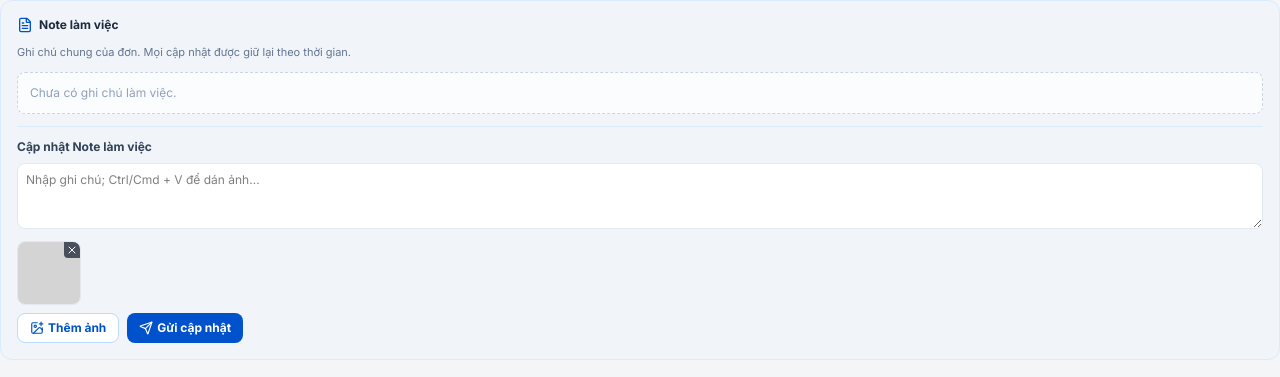
Test case: OrderWorkNotesCard › turns a pasted image into a preview and submits it with the note
Expected: the text "Chưa có ghi chú làm việc." is shown, [17,72,1263,114]
Type "Đây là temp mới" into the text box with placeholder "Nhập ghi chú; Ctrl/Cmd + V để dán ảnh…" at (640, 196), box [17,163,1263,229]
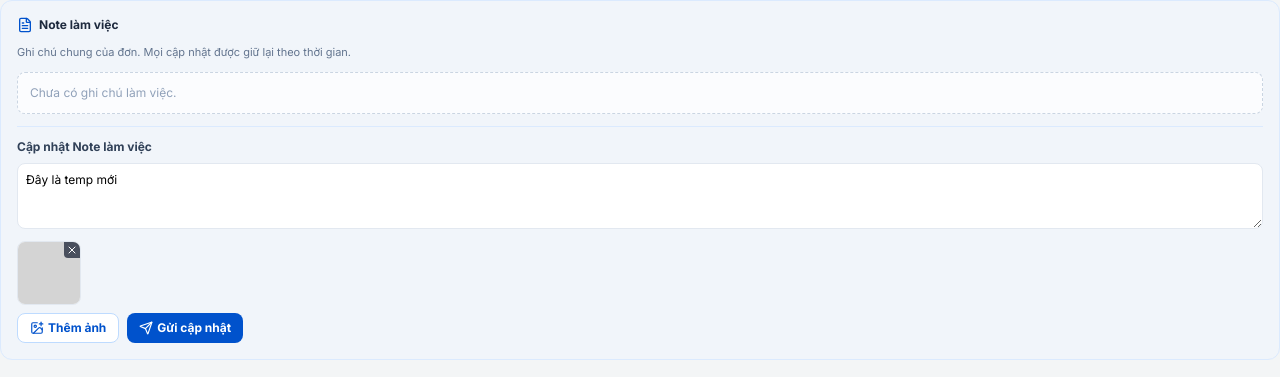
Click the button "Gửi cập nhật" at (185, 328), box [127,313,243,343]
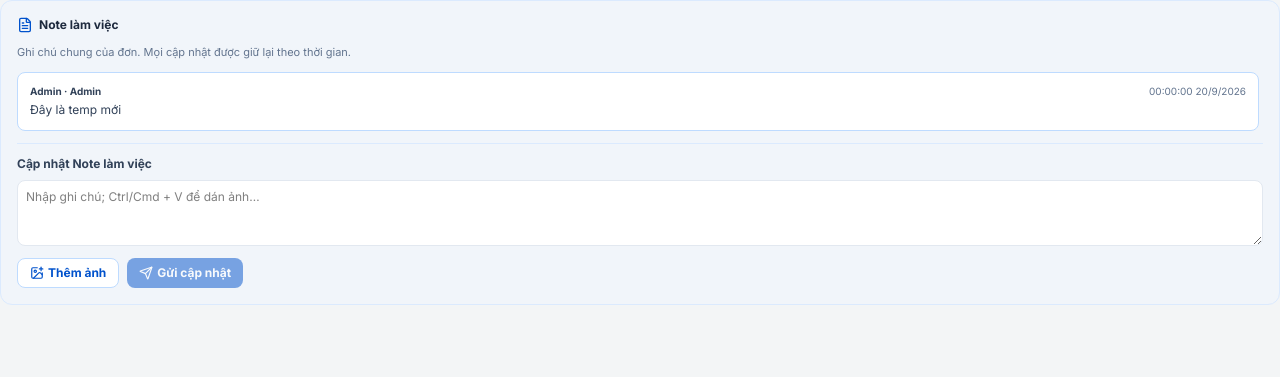
Expected: the text "Đây là temp mới" is shown, [30,102,121,117]
